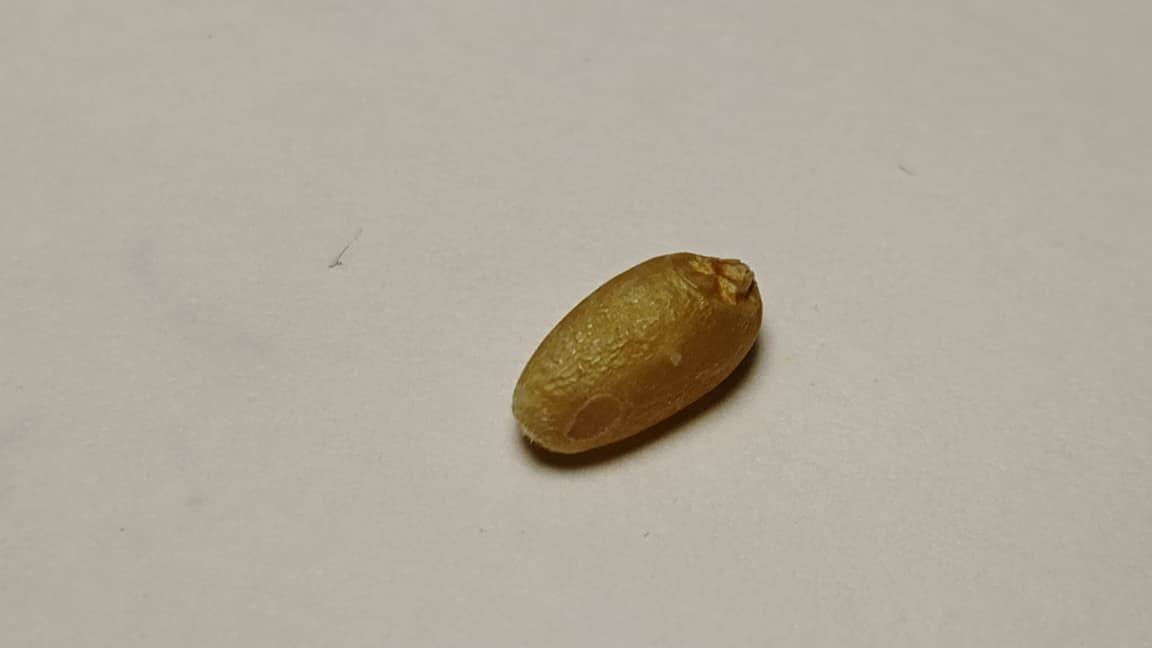healthy: (513, 253, 761, 452)
